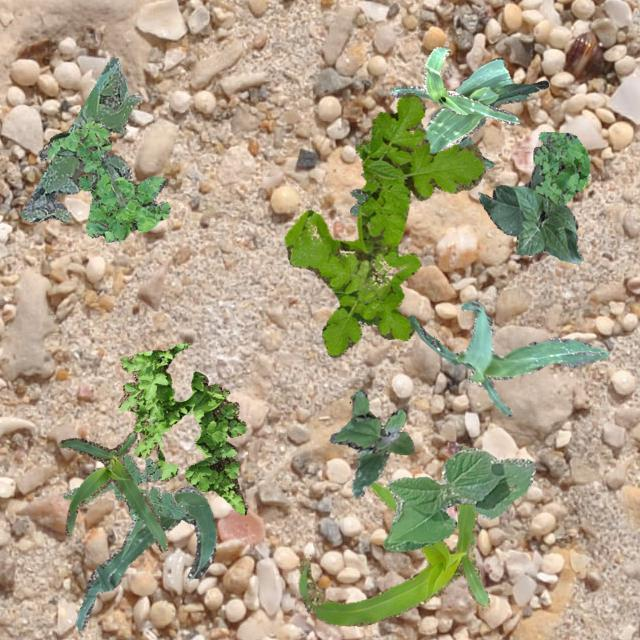crop: (296, 442, 489, 624), (408, 300, 608, 416), (74, 486, 216, 636), (382, 446, 534, 550), (57, 430, 166, 550), (423, 56, 548, 152), (477, 164, 582, 262), (389, 45, 518, 124), (48, 122, 106, 174), (456, 136, 494, 168)
weed: (284, 91, 484, 356), (118, 342, 246, 514), (20, 55, 142, 222), (38, 118, 170, 242), (328, 388, 412, 498), (61, 452, 186, 520), (532, 130, 588, 203), (348, 188, 368, 215)
